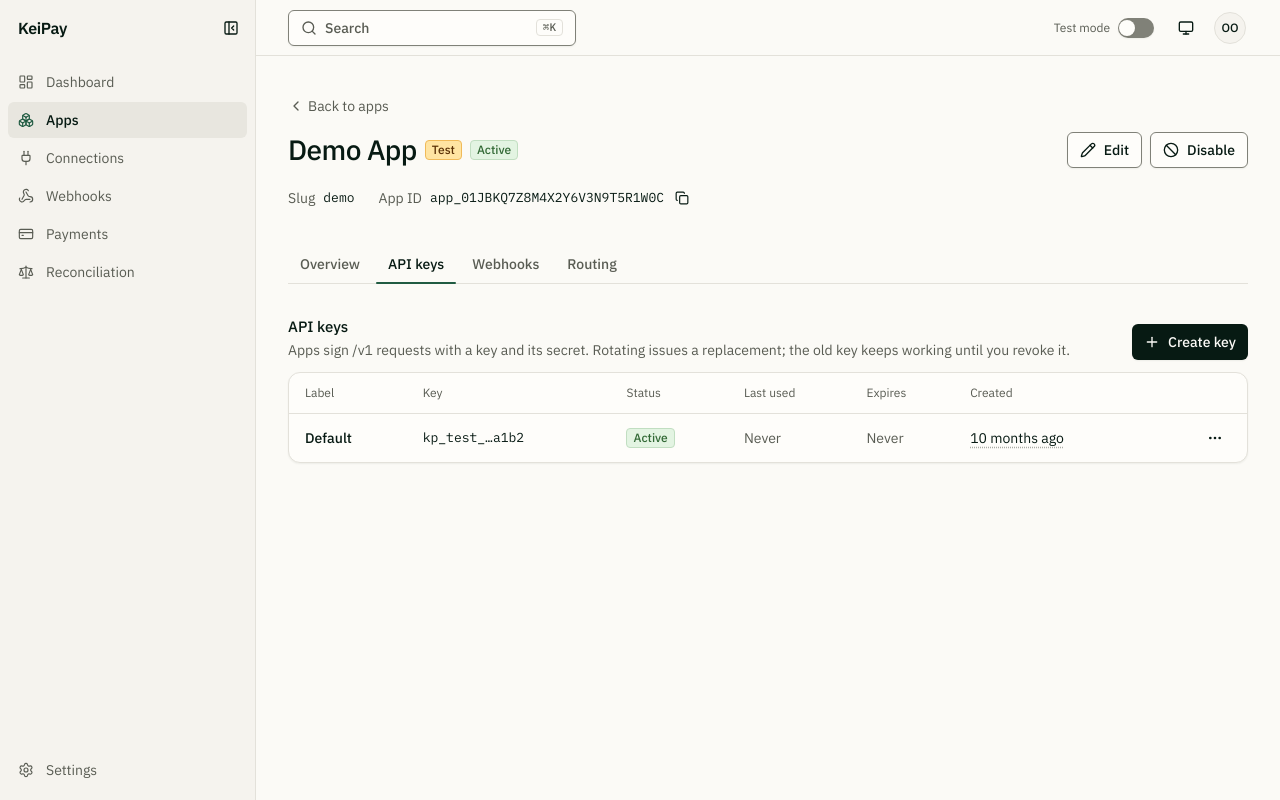
Scenario: API keys tab › rotates after a confirmation and reveals the new key with a revoke hint
Click the button named "Actions for key Default (kp_test_…a1b2)".
click(1215, 438)  # box [1199, 422, 1231, 454]
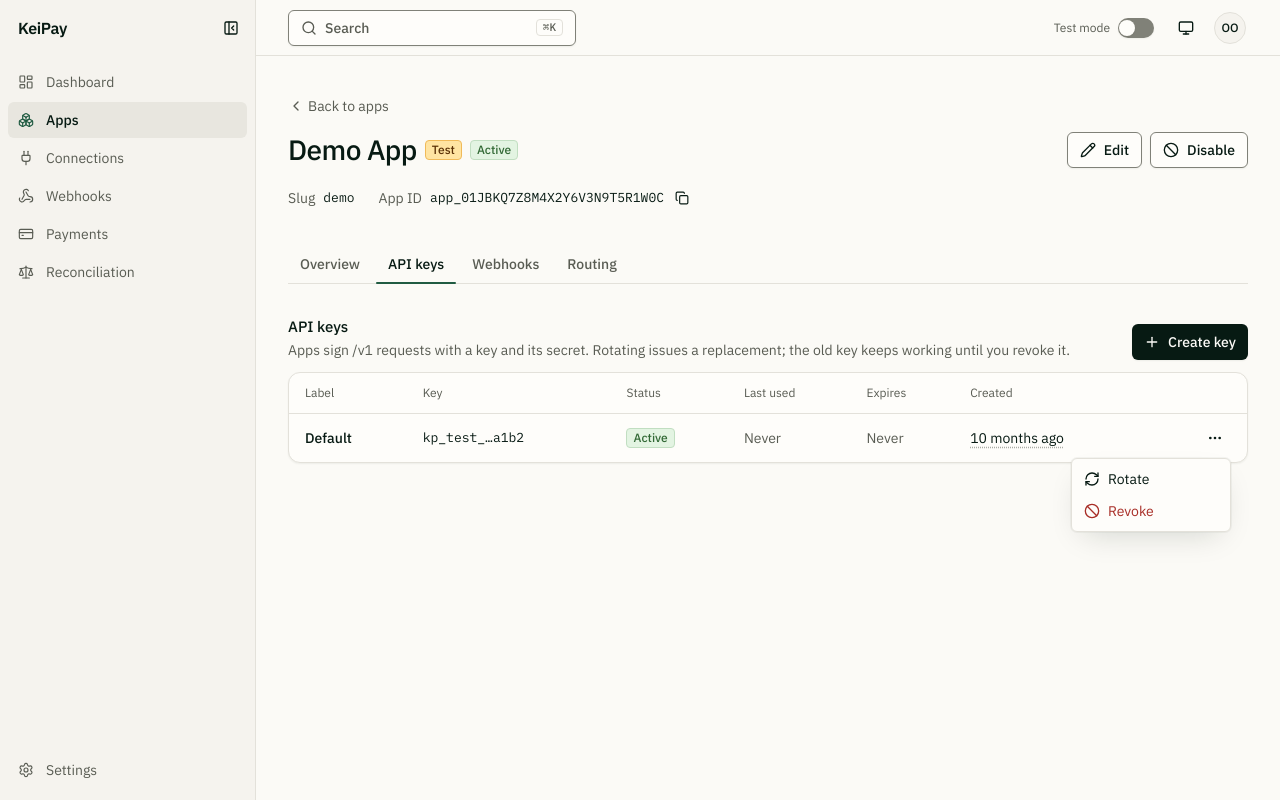
Click the menu item "Rotate".
click(1117, 479)  # box [1084, 470, 1150, 488]
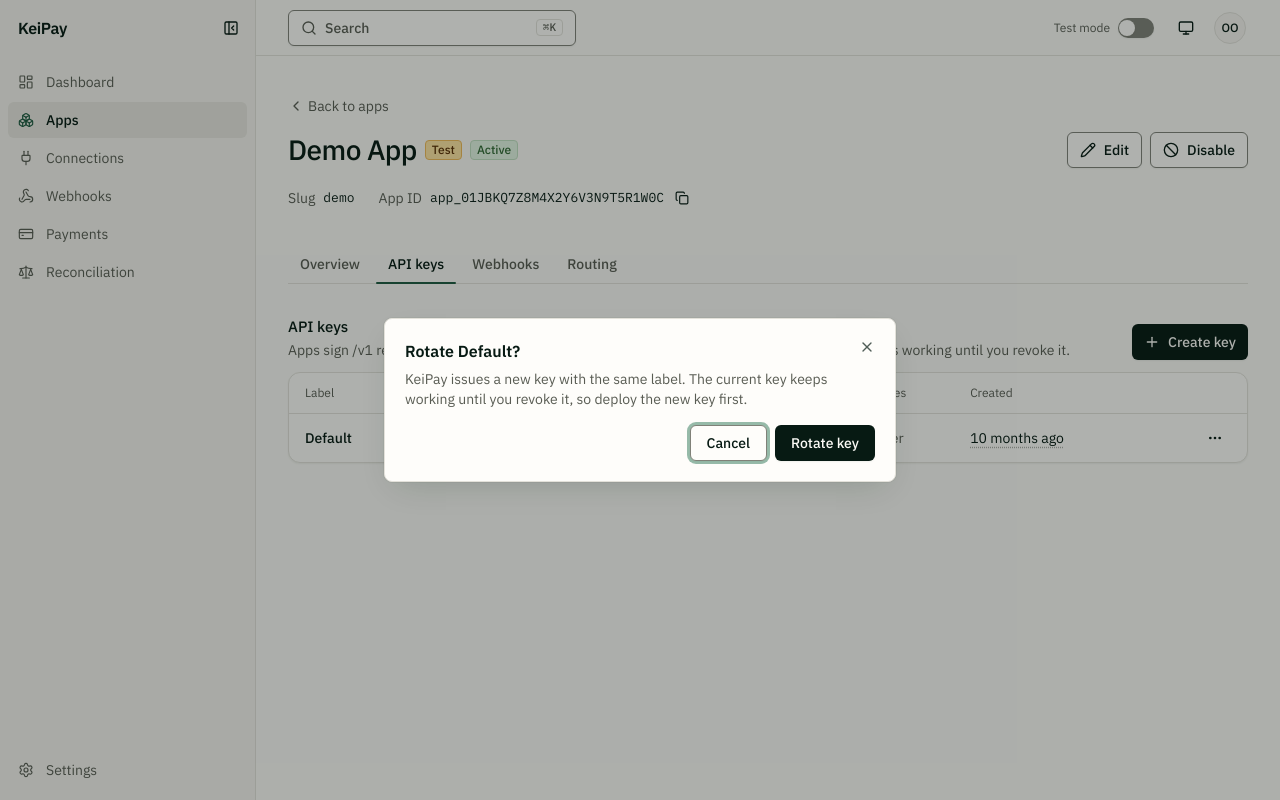
Result: the dialog "Rotate Default?" shows "keeps working until you revoke it" at [405, 370, 828, 408]
Click the button "Rotate key".
click(825, 443)  # box [775, 425, 875, 461]
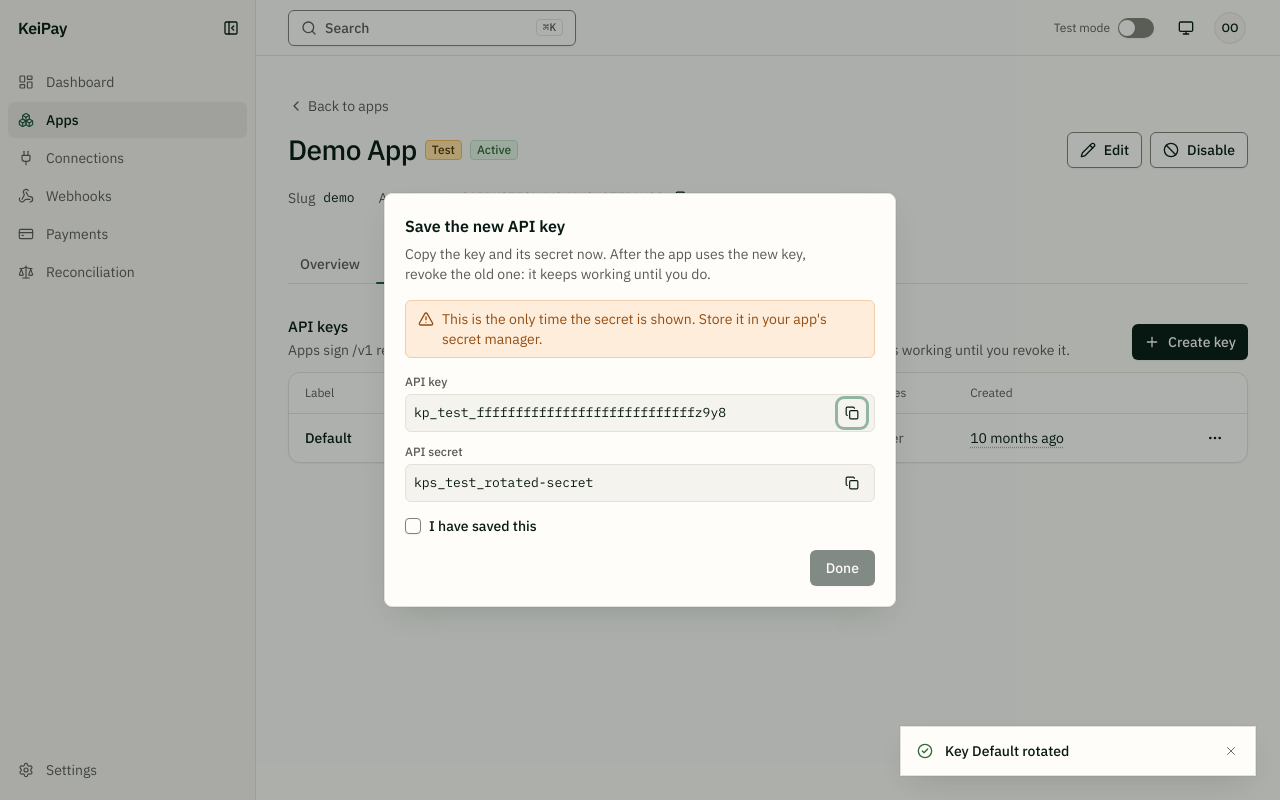
Result: the dialog "Save the new API key" shows "revoke the old one" at [405, 245, 806, 283]
Result: the text "kps_test_rotated-secret" is shown at [414, 474, 593, 491]
